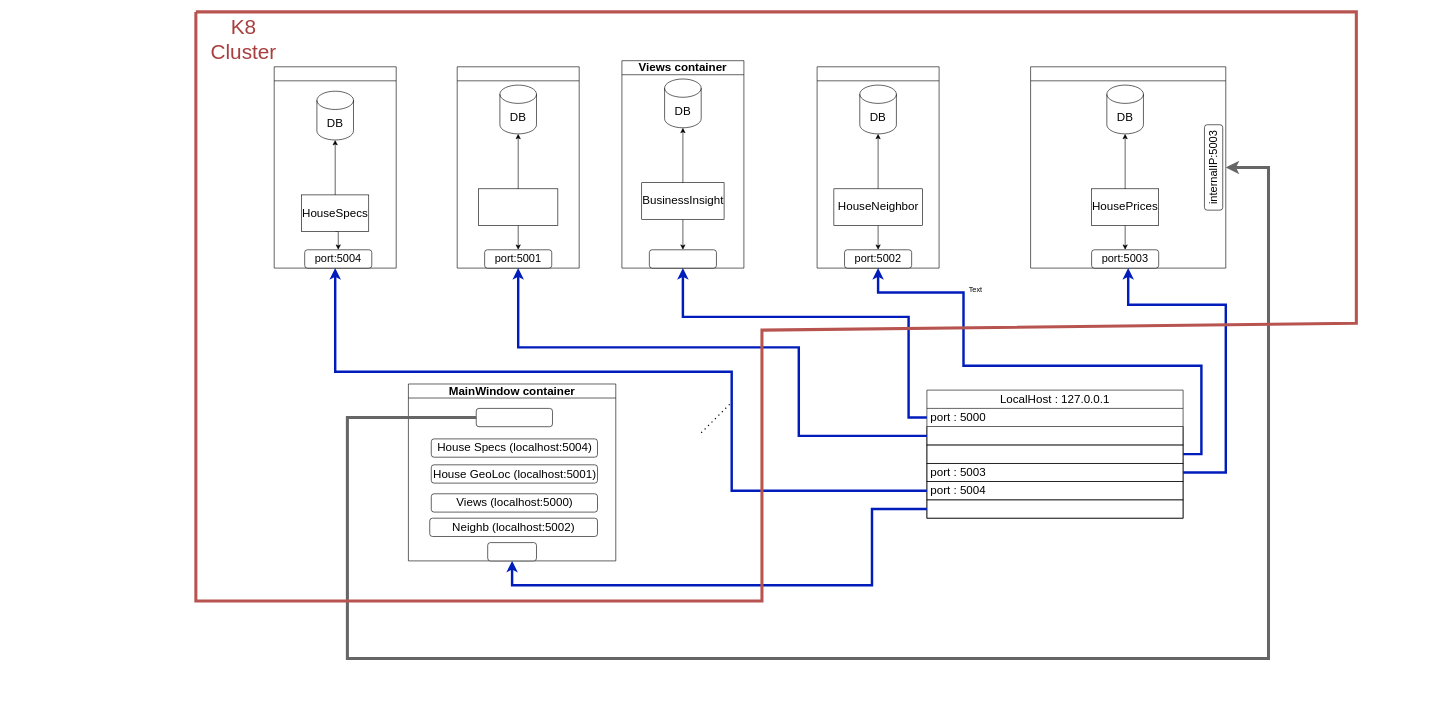
Image size: 1439x701. Some labels were removed from this diagram. The shapes that lost their labels are listed below. From the top down, each one's box as (x1, y1, x2, y2) in pixels, then its label:
(274, 66, 396, 268): HouseSpec container
(457, 66, 579, 268): GeoLoc container
(816, 66, 939, 268): Neighbor container
(1030, 66, 1226, 268): Prices container
(478, 188, 558, 225): HouseGeoLoc
(649, 249, 716, 268): port:5000
(476, 408, 552, 427): Price
(926, 426, 1183, 445): port : 5001
(926, 444, 1183, 463): port : 5002
(926, 499, 1183, 518): port : 5005
(487, 542, 536, 561): port:5005
